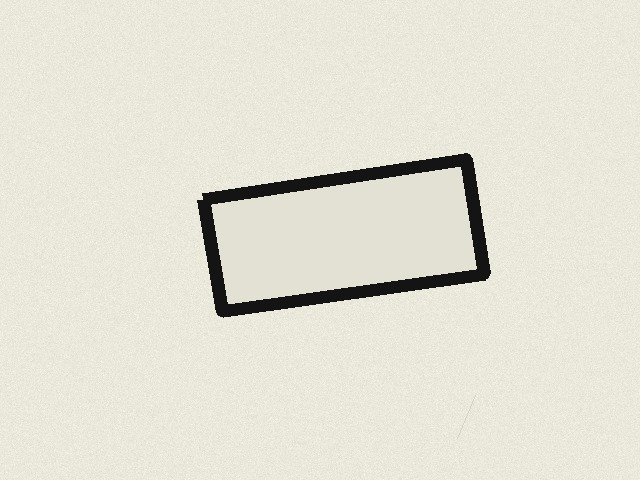parking_area: (203, 159, 484, 311)
